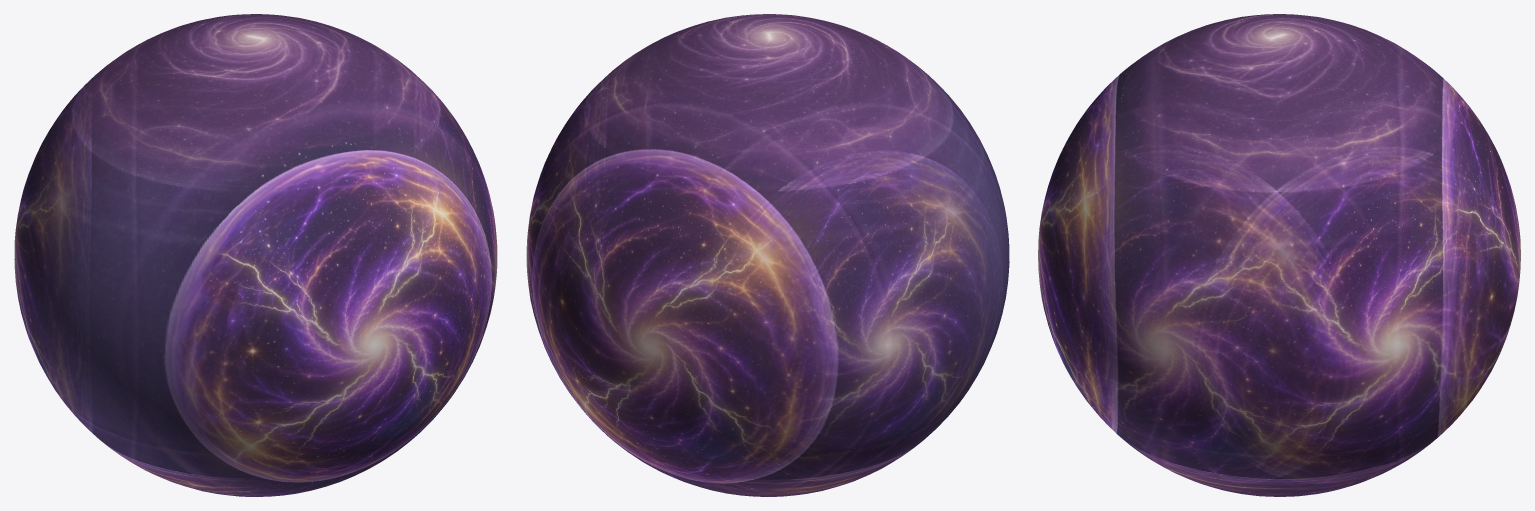
Rendered from crystal-ball.glb.
3 renders of one model, left to right at view 1: azimuth 30°, elevation 25°; view 2: azimuth 150°, elevation 25°; view 3: azimuth 270°, elevation 25°, orthographic.
Size of the model in its own units: 1.9 by 1.9 by 1.9.
1 material, 1 textured.
